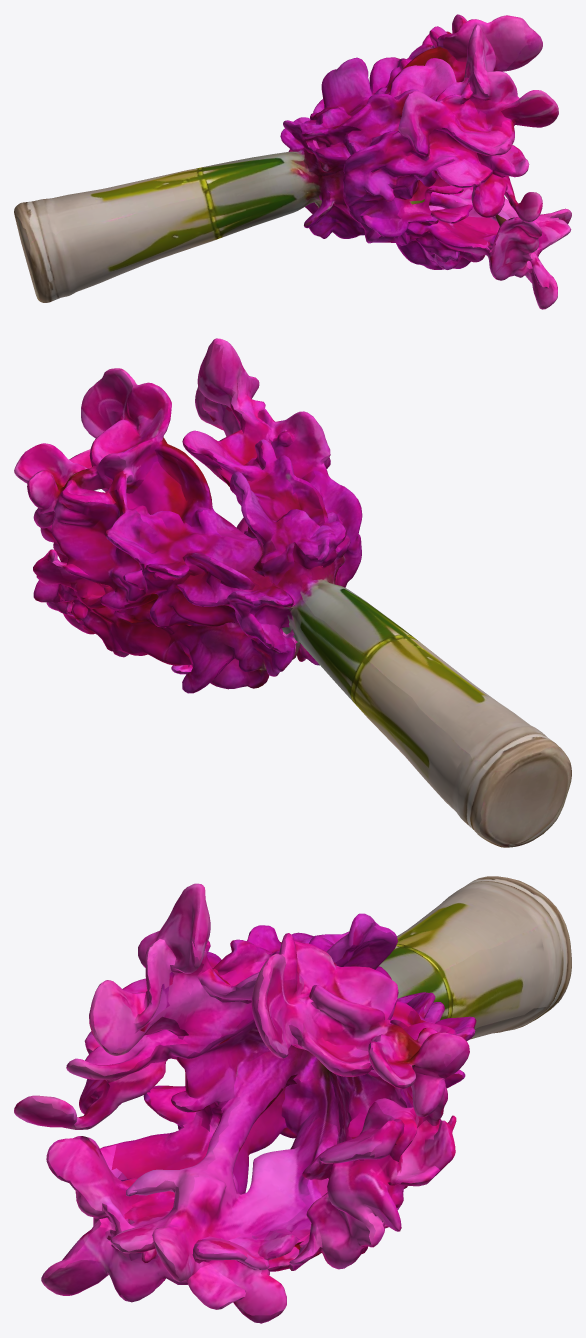
Rendered from simfoundry.glb.
3 renders of one model, top to bottom at view 1: azimuth 30°, elevation 25°; view 2: azimuth 150°, elevation 25°; view 3: azimuth 270°, elevation 25°, orthographic. The views are drawn at different scales.
Parts seen in each view (by area): view 1: vase_with_pink_flowers_nkmbbn_link_iter_0_canonical_mesh_obj; view 2: vase_with_pink_flowers_nkmbbn_link_iter_0_canonical_mesh_obj; view 3: vase_with_pink_flowers_nkmbbn_link_iter_0_canonical_mesh_obj.
Boxes of the visible parts, x1,y1,x2,y2 form: vase_with_pink_flowers_nkmbbn_link_iter_0_canonical_mesh_obj: [14, 14, 571, 309]; vase_with_pink_flowers_nkmbbn_link_iter_0_canonical_mesh_obj: [14, 338, 571, 847]; vase_with_pink_flowers_nkmbbn_link_iter_0_canonical_mesh_obj: [14, 876, 571, 1323].
Size of what is drawn, in the model's own units: 0.1757 by 0.0931 by 0.1177.
Materials: 1 (1 with a texture image).
